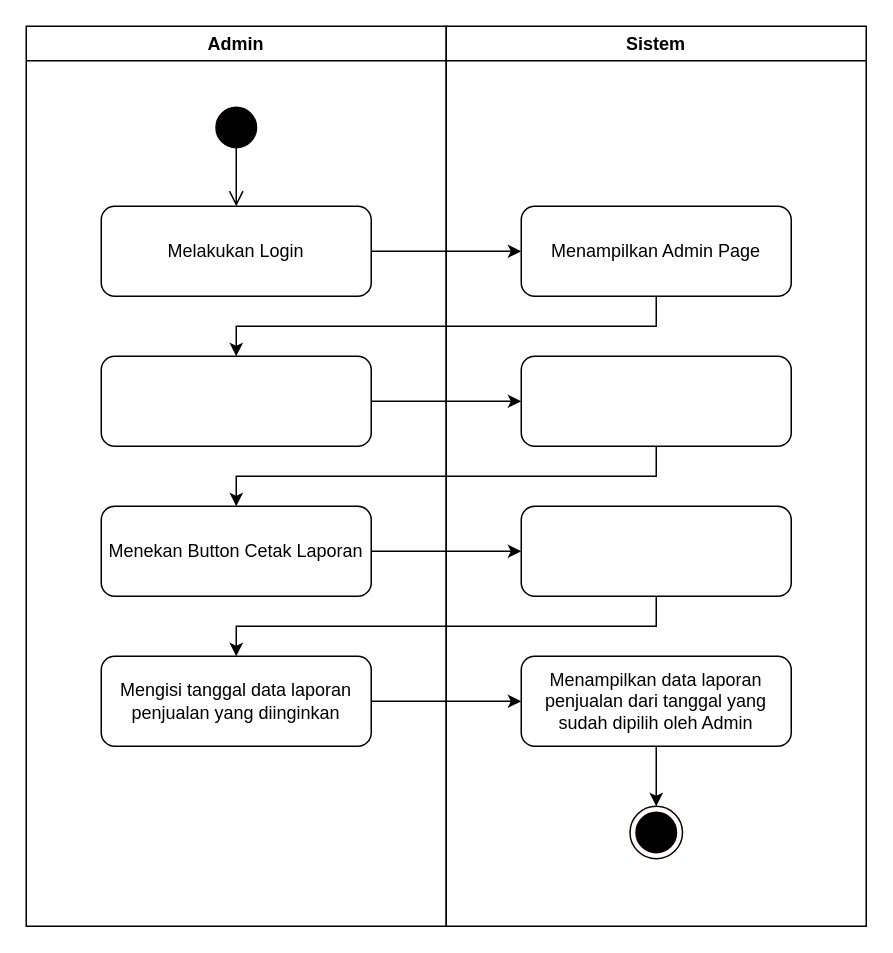
This 893x953 diagram has some shape labels left out. Each missing label, with the box of its shape:
Menampilkan halaman Transaksi Barang: (520, 355, 791, 446)
Menampilkan tab baru berisikan rentang tanggal yang ingin dicetak: (520, 505, 791, 596)
Menekan Menu Transaksi: (100, 355, 371, 446)
